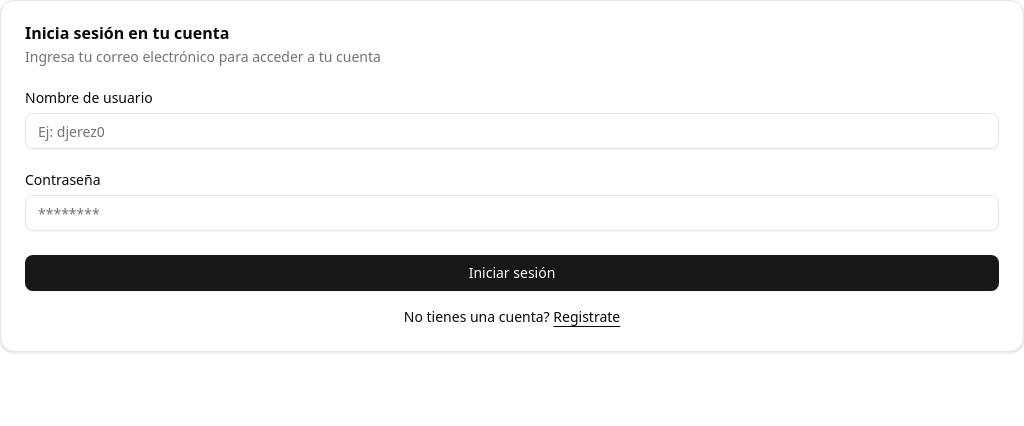
LoginForm › muestra errores si se envía vacío
This screenshot has width=1024, height=426.
Click the button "Iniciar sesión" at [512, 273], box x1=25 y1=255 x2=999 y2=291
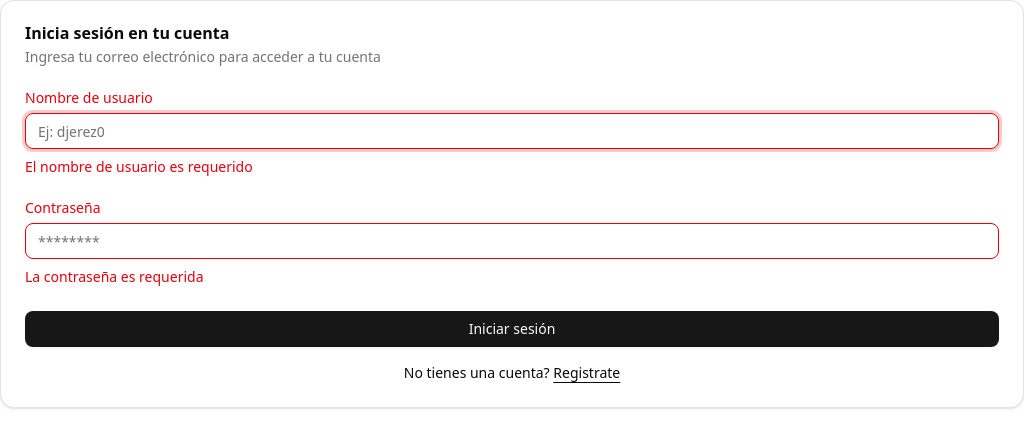
Check: the text "El nombre de usuario es requerido" is shown, box x1=25 y1=157 x2=253 y2=176
Check: the text "La contraseña es requerida" is shown, box x1=25 y1=267 x2=204 y2=286
